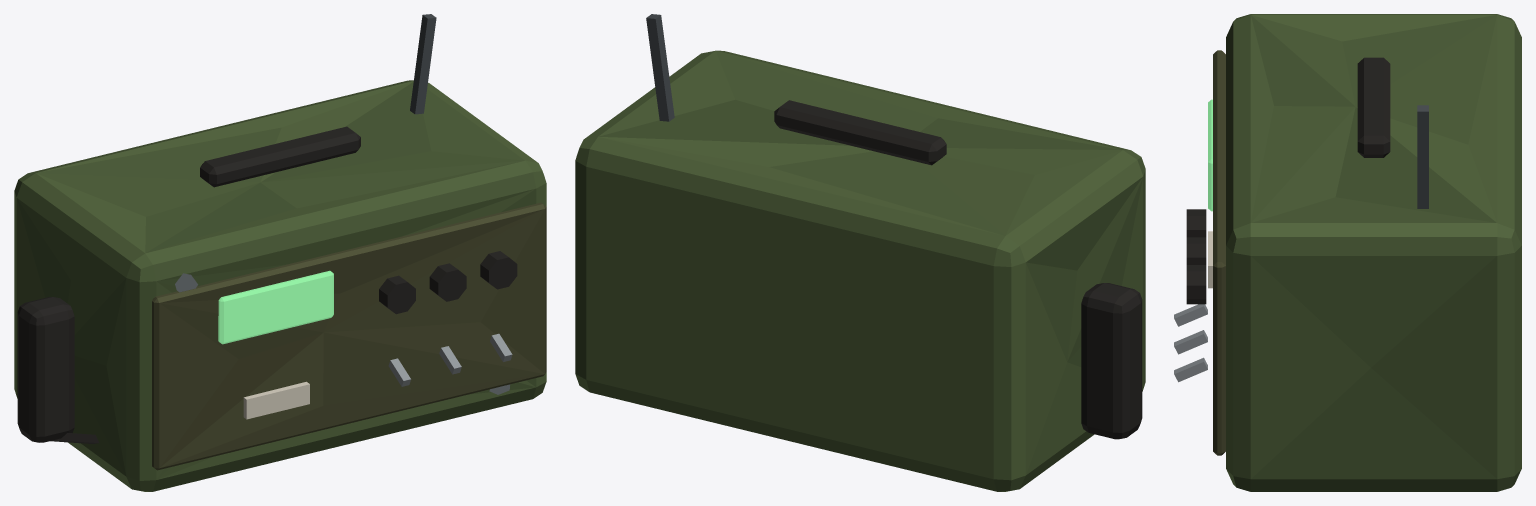
Rendered from radio_desk_voennaya_ratsiya_idle.glb.
The picture shows the model from 3 angles, left to right: view 1: azimuth 30°, elevation 25°; view 2: azimuth 150°, elevation 25°; view 3: azimuth 270°, elevation 25°; orthographic projection. The views are drawn at different scales.
Visible parts, largest first — view 1: radio_desk_voennaya_ratsiya_idle; view 2: radio_desk_voennaya_ratsiya_idle; view 3: radio_desk_voennaya_ratsiya_idle.
Part boxes in pixels (box(x1,y1,x2,y2)): radio_desk_voennaya_ratsiya_idle: box(14, 14, 546, 491); radio_desk_voennaya_ratsiya_idle: box(575, 14, 1145, 491); radio_desk_voennaya_ratsiya_idle: box(1174, 14, 1521, 491).
Size of the model in its own units: 0.3675 by 0.2505 by 0.2116.
2 materials, 2 textured.
